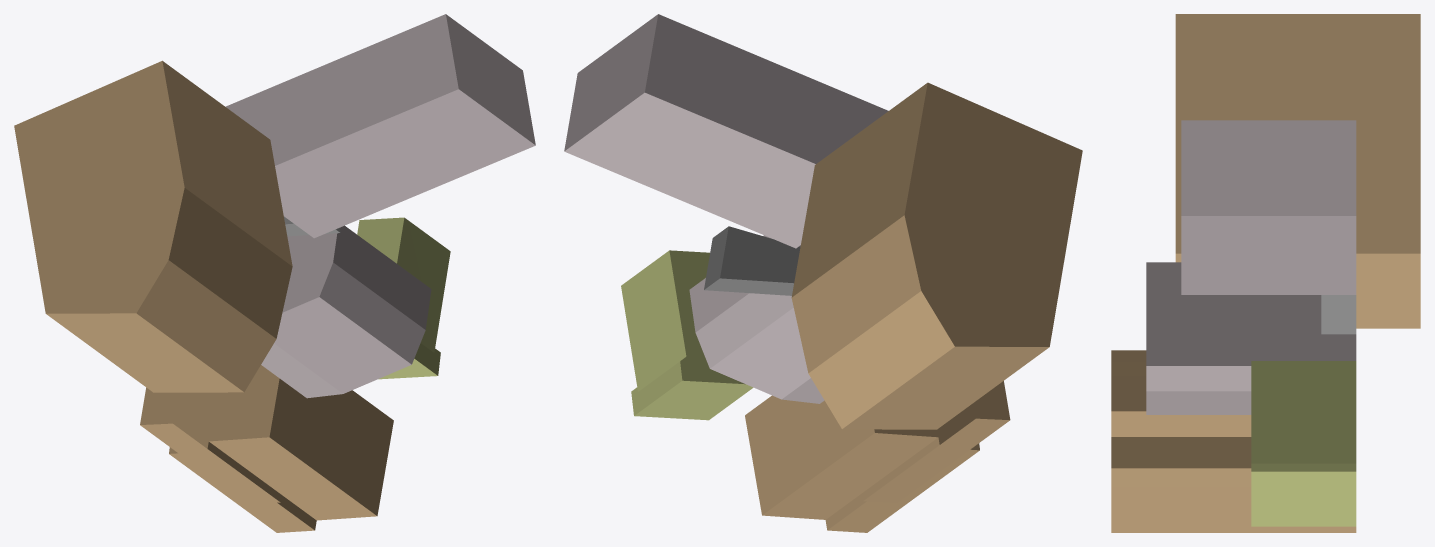
3 views of the same model, side by side, from view 1: azimuth 30°, elevation 25°; view 2: azimuth 150°, elevation 25°; view 3: azimuth 270°, elevation 25° (orthographic). The views are drawn at different scales.
Parts seen in each view (by area): view 1: 0_3_0_1_1_1_0_3_1; view 2: 0_3_0_1_1_1_0_3_1; view 3: 0_3_0_1_1_1_0_3_1.
Part boxes in pixels (<box>): 0_3_0_1_1_1_0_3_1: <box>14,14,535,532</box>; 0_3_0_1_1_1_0_3_1: <box>564,14,1082,532</box>; 0_3_0_1_1_1_0_3_1: <box>1111,14,1420,532</box>.
Bounding box in the file's own units: 46.75 × 40.8 × 26.5.
